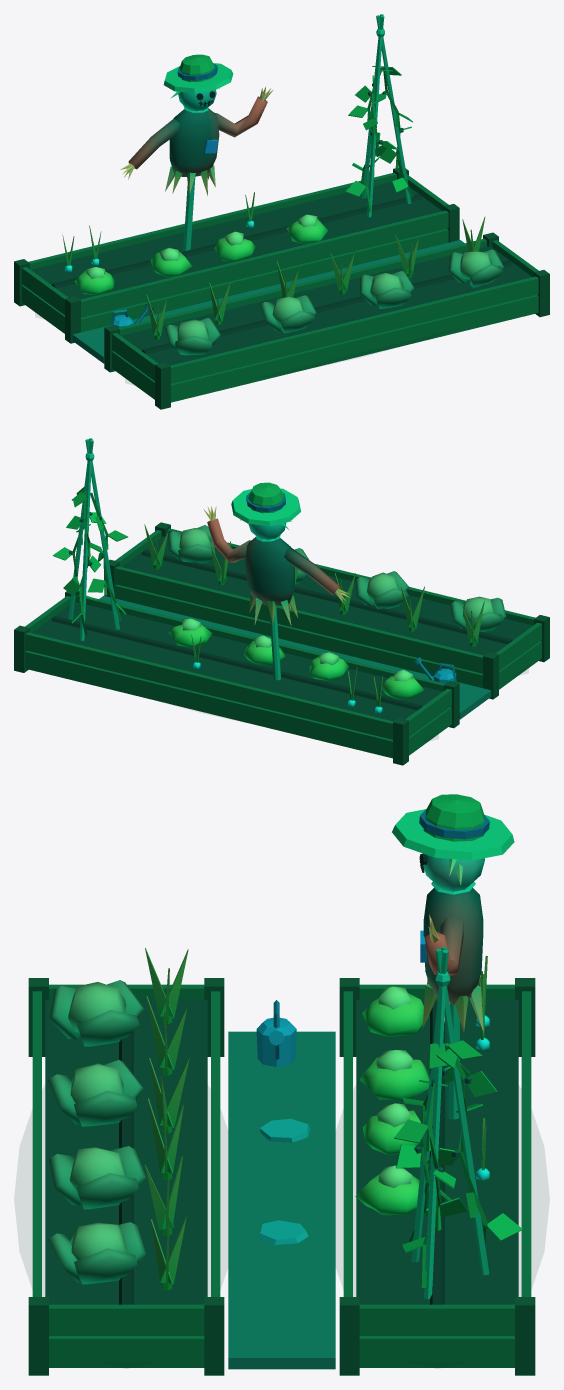
File: vegetable_patch.glb
3 views of the same model, one above another, from view 1: azimuth 30°, elevation 25°; view 2: azimuth 150°, elevation 25°; view 3: azimuth 270°, elevation 25° (orthographic). The views are drawn at different scales.
Visible parts, largest first — view 1: vegetable_patch; view 2: vegetable_patch; view 3: vegetable_patch.
Part boxes in pixels (<box>): vegetable_patch: <box>14,14,549,409</box>; vegetable_patch: <box>14,438,549,765</box>; vegetable_patch: <box>28,794,535,1375</box>.
Bounding box in the file's own units: 3 × 1.59 × 2.
